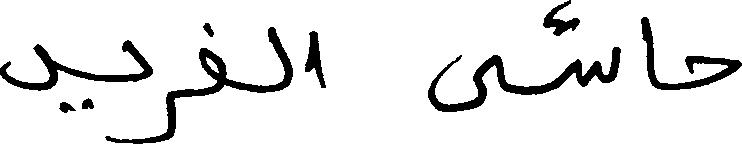X: (429, 50, 501, 116), (576, 13, 619, 91), (0, 39, 57, 95), (123, 35, 151, 143), (685, 51, 741, 93), (199, 18, 226, 100), (268, 22, 292, 96), (641, 12, 656, 92), (309, 26, 326, 92), (162, 86, 175, 143)
